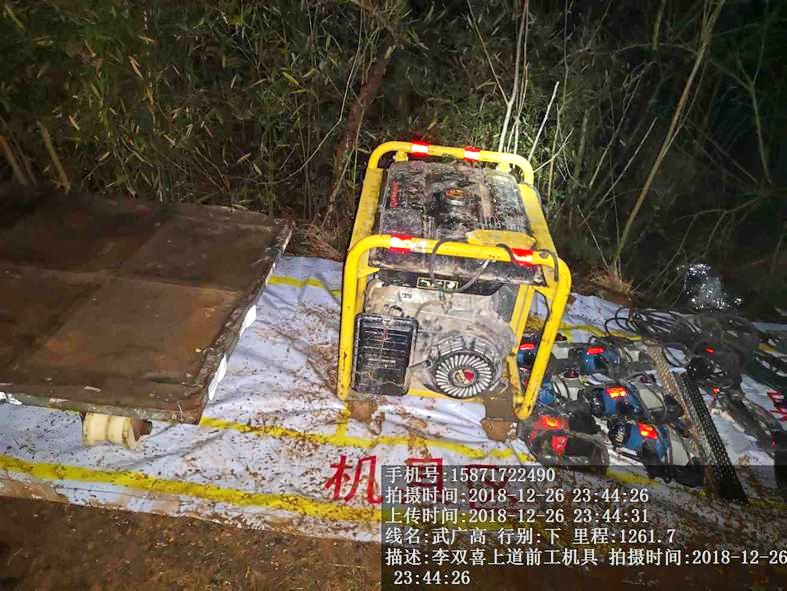DJ: (338, 137, 551, 426)
DZ: (613, 413, 697, 491), (591, 369, 671, 416)
